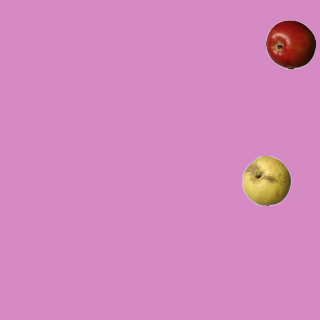Apple Braeburn: (265, 19, 315, 69)
Apple Golden 1: (241, 155, 291, 205)
